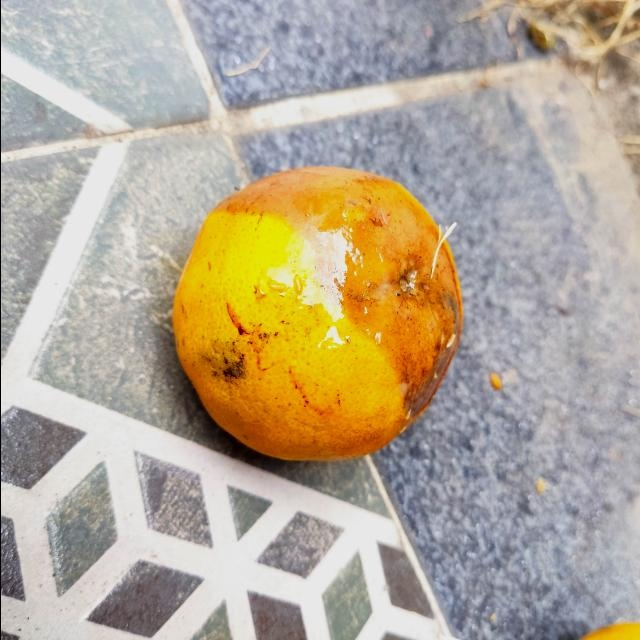agrume: (172, 164, 464, 464)
